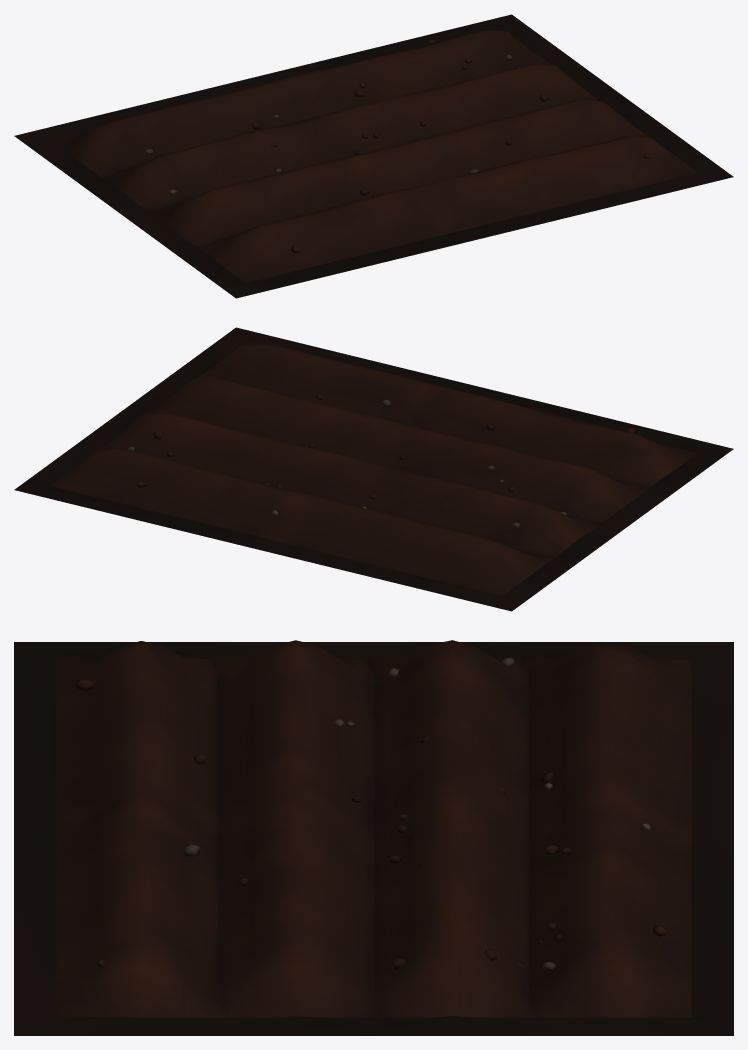
The model's file is fm_bed_wet.glb.
The picture shows the model from 3 angles, top to bottom: view 1: azimuth 30°, elevation 25°; view 2: azimuth 150°, elevation 25°; view 3: azimuth 270°, elevation 25°; orthographic projection. The views are drawn at different scales.
Visible parts, largest first — view 1: fm_bed_wet; view 2: fm_bed_wet; view 3: fm_bed_wet.
Boxes of the visible parts, x1=… form: fm_bed_wet: x1=14, y1=14, x2=733, y2=298; fm_bed_wet: x1=14, y1=327, x2=733, y2=611; fm_bed_wet: x1=14, y1=640, x2=733, y2=1035.
Bounding box in the file's own units: 4.4 × 0.2503 × 3.4.
